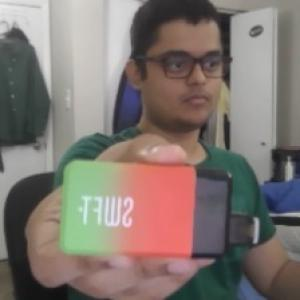Swift-E-Ciggirate: (55, 148, 265, 266)
